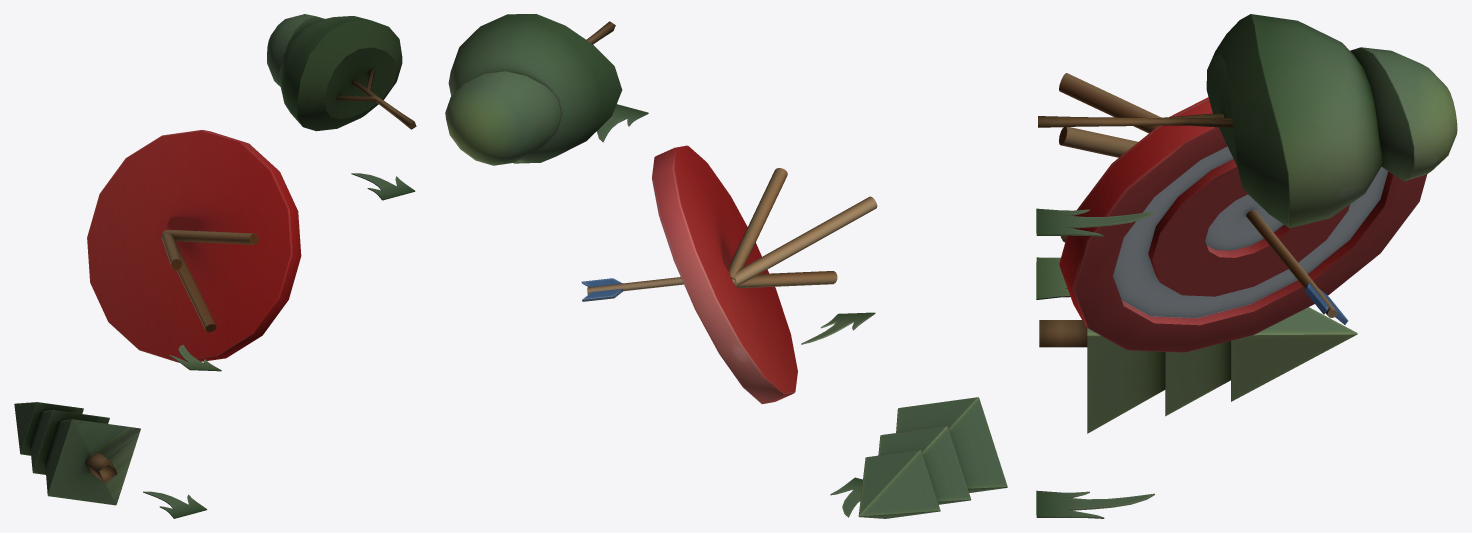
File: target.glb
3 views of the same model, side by side, from view 1: azimuth 30°, elevation 25°; view 2: azimuth 150°, elevation 25°; view 3: azimuth 270°, elevation 25° (orthographic). The views are drawn at different scales.
Parts seen in each view (by area): view 1: Target, Arbres_Maison.001; view 2: Arbres_Maison.001, Target, Arrow; view 3: Arbres_Maison.001, Target, Arrow.
Boxes of the visible parts, x1,y1,x2,y2 form: Target: (87, 130, 301, 362); Arbres_Maison.001: (14, 14, 416, 518); Arbres_Maison.001: (445, 14, 1007, 518); Target: (652, 145, 877, 403); Arrow: (581, 277, 683, 301); Arbres_Maison.001: (1036, 14, 1457, 518); Target: (1059, 73, 1427, 352); Arrow: (1246, 210, 1348, 324).
Bounding box in the file's own units: 1.21 × 1.09 × 0.6271.
2 materials, 2 textured.
